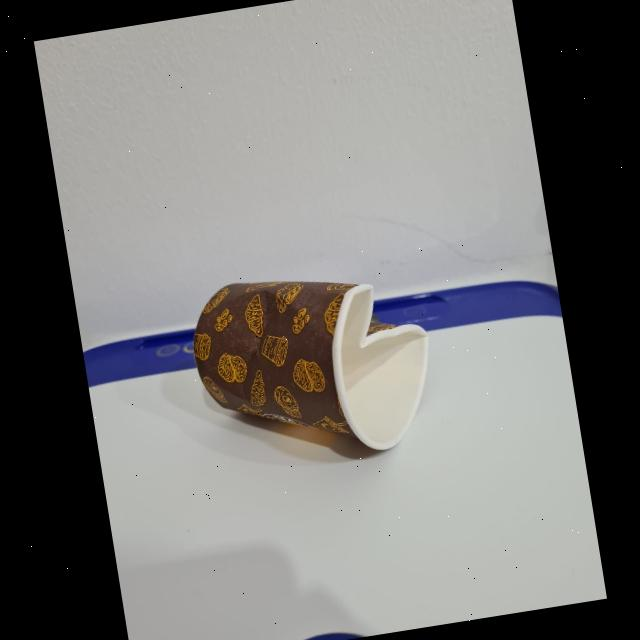trash: (170, 237, 448, 486)
